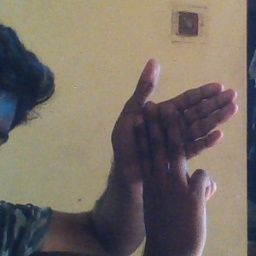M: (104, 54, 239, 228)
